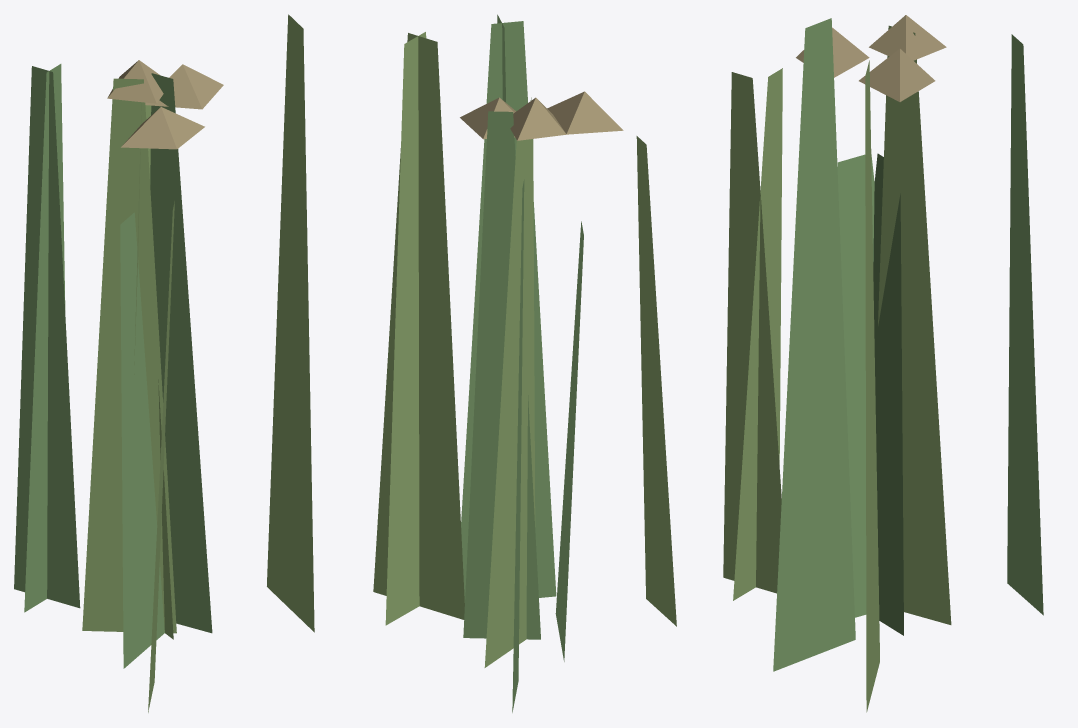
The model's file is shrub.sub.reed_clump__bloom.glb.
3 views of the same model, side by side, from view 1: azimuth 30°, elevation 25°; view 2: azimuth 150°, elevation 25°; view 3: azimuth 270°, elevation 25° (orthographic). The views are drawn at different scales.
Visible parts, largest first — view 1: shrub.sub.reed_clump__bloom; view 2: shrub.sub.reed_clump__bloom; view 3: shrub.sub.reed_clump__bloom.
Boxes of the visible parts, x1,y1,x2,y2 form: shrub.sub.reed_clump__bloom: (14,14,314,712); shrub.sub.reed_clump__bloom: (373,14,676,712); shrub.sub.reed_clump__bloom: (723,15,1043,712).
Bounding box in the file's own units: 0.9425 × 1.99 × 0.9655.
